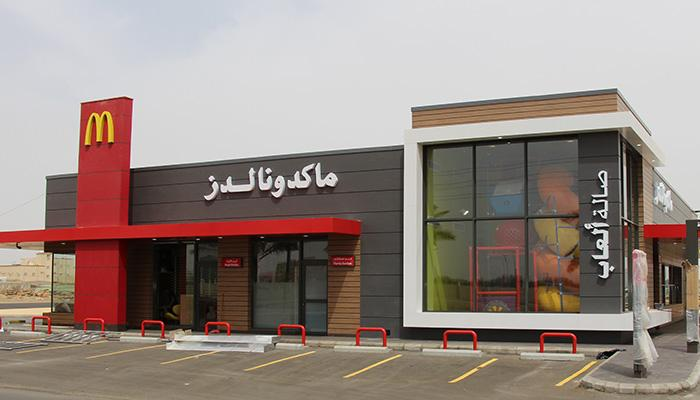mcdonalds: (77, 104, 119, 150)
